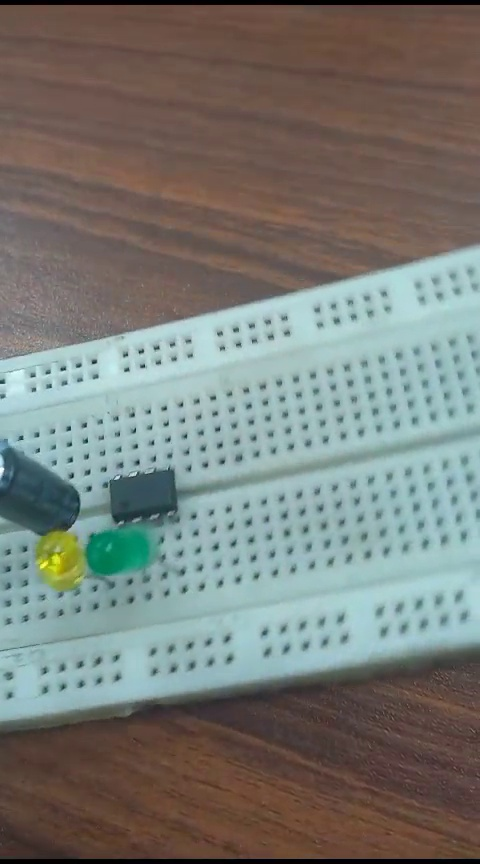IC: (94, 469, 198, 520)
LED: (86, 532, 160, 580), (34, 528, 82, 595)
capacitor: (4, 427, 79, 524)
